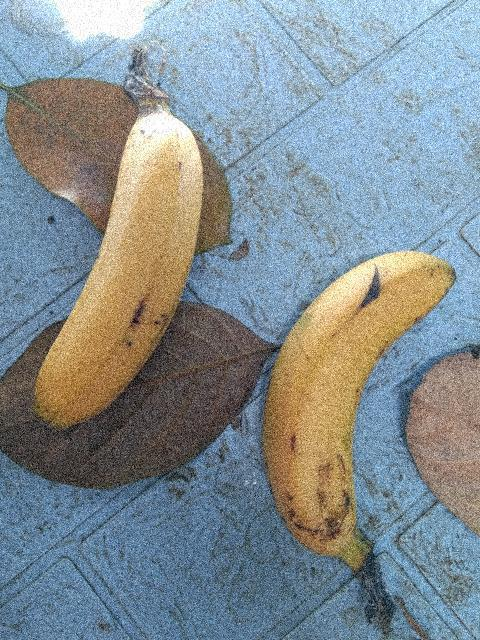freshripe: (2, 98, 215, 459)
ripe: (260, 230, 462, 566)
